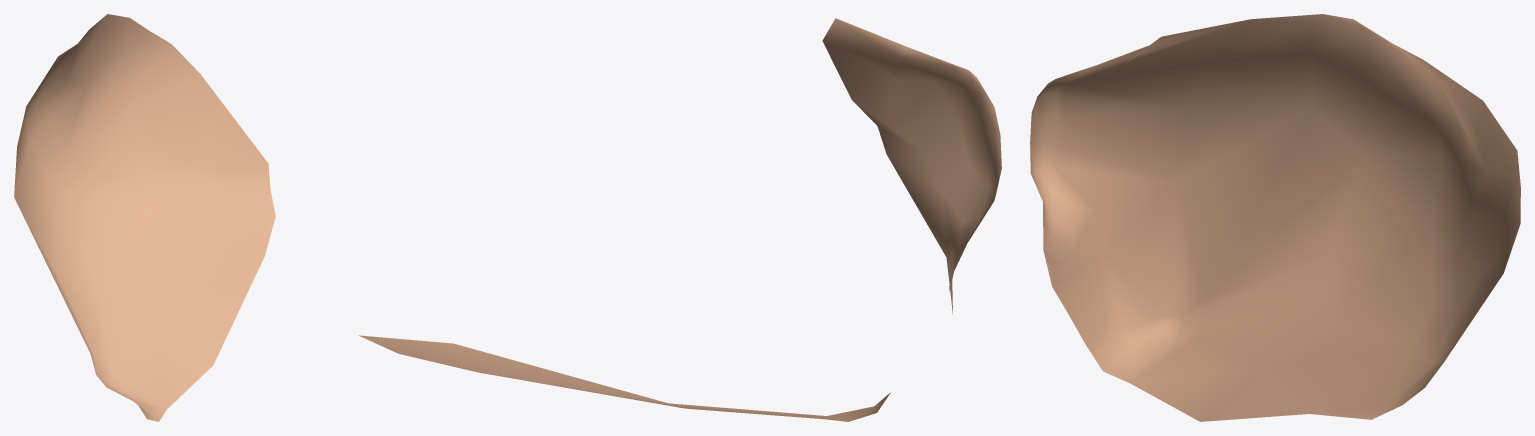
File: cavity-of-concha-l.glb
3 renders of one model, left to right at view 1: azimuth 30°, elevation 25°; view 2: azimuth 150°, elevation 25°; view 3: azimuth 270°, elevation 25°, orthographic. The views are drawn at different scales.
Visible parts, largest first — view 1: Cavity of concha.l; view 2: Cavity of concha.l; view 3: Cavity of concha.l.
Boxes of the visible parts, x1=… form: Cavity of concha.l: x1=14, y1=14, x2=275, y2=421; Cavity of concha.l: x1=358, y1=18, x2=1001, y2=421; Cavity of concha.l: x1=1030, y1=14, x2=1520, y2=421.
Size of the model in its own units: 0.0128 by 0.0119 by 0.0145.
